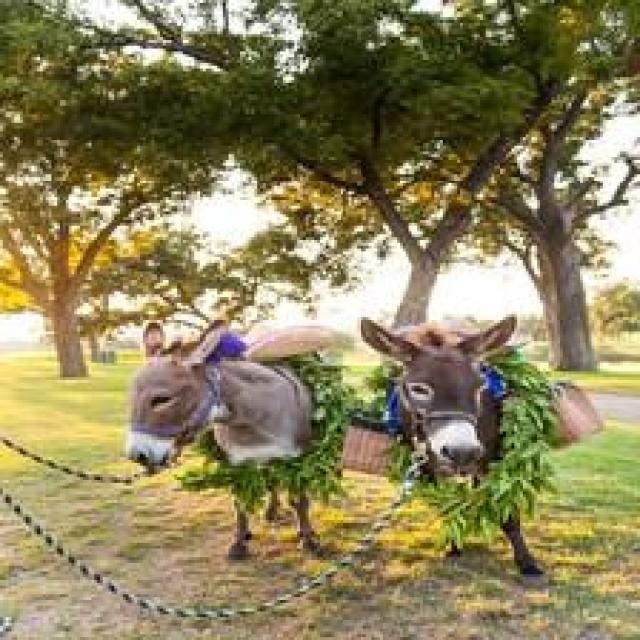Donkey: (123, 317, 337, 560), (357, 312, 546, 577)
